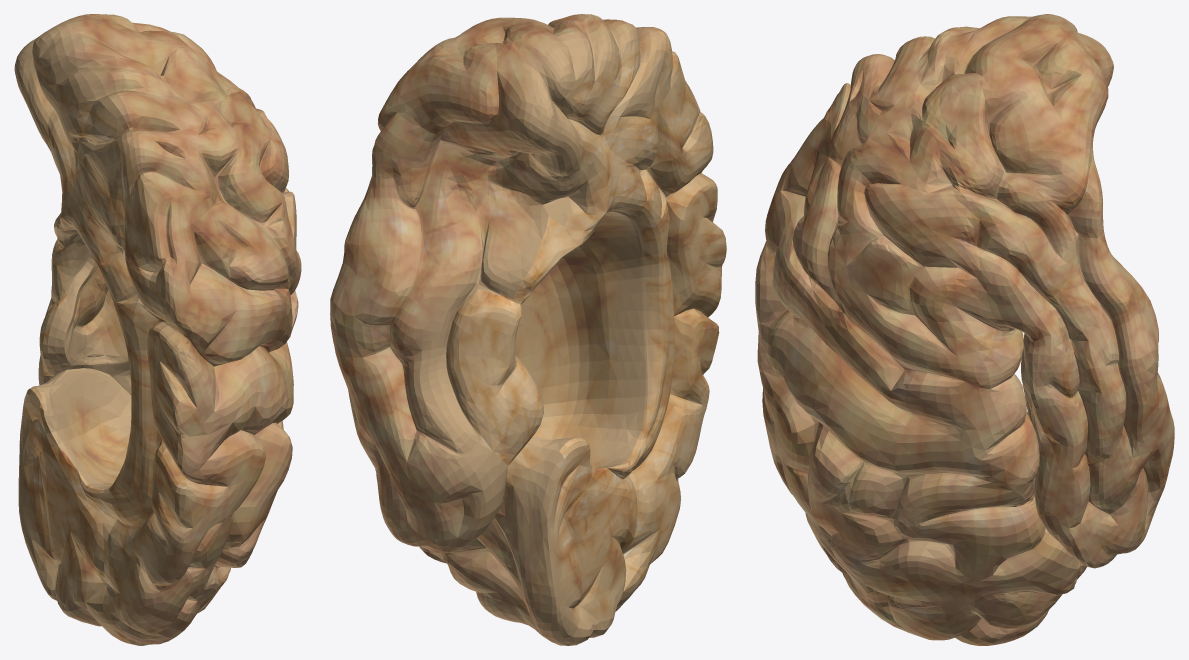
The model's file is cerebrum.obj.
The picture shows the model from 3 angles, left to right: view 1: azimuth 30°, elevation 25°; view 2: azimuth 150°, elevation 25°; view 3: azimuth 270°, elevation 25°; orthographic projection. The views are drawn at different scales.
Size of the model in its own units: 2.76 by 7.21 by 4.46.
1 material, 1 textured.
